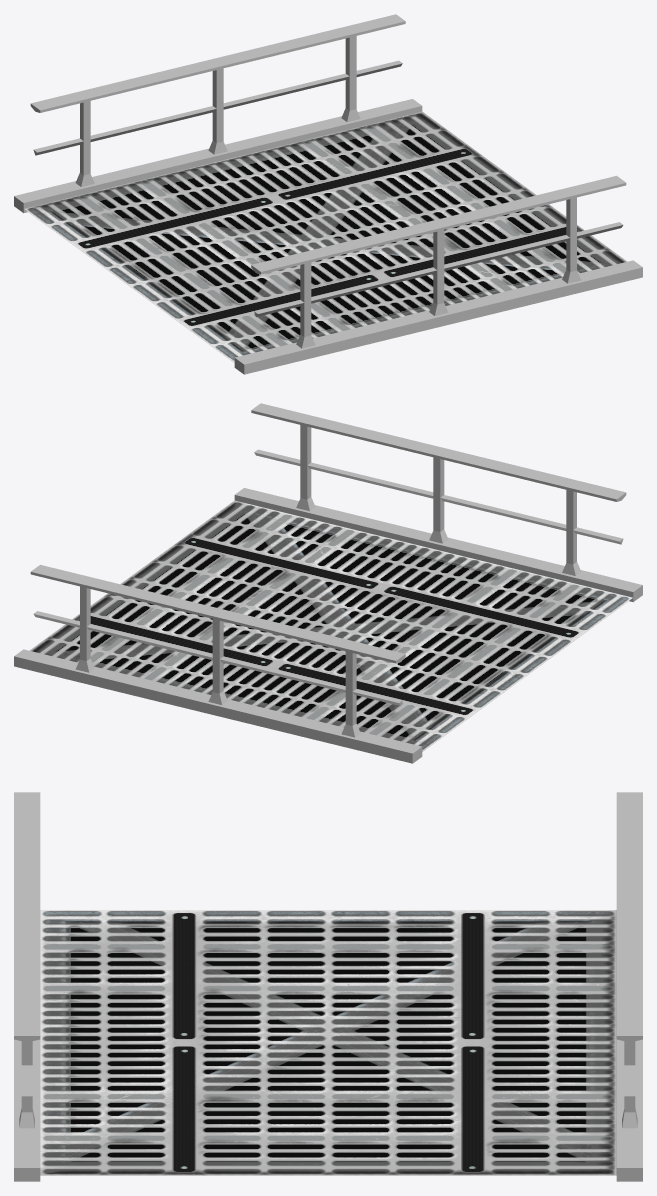
Rendered from PlateForm_Line_04.FBX.
3 views of the same model, one above another, from view 1: azimuth 30°, elevation 25°; view 2: azimuth 150°, elevation 25°; view 3: azimuth 270°, elevation 25° (orthographic). The views are drawn at different scales.
Visible parts, largest first — view 1: PlateForm_Line_04; view 2: PlateForm_Line_04; view 3: PlateForm_Line_04.
Boxes of the visible parts, box(x1,y1,x2,y2) form: PlateForm_Line_04: box(14, 14, 642, 374); PlateForm_Line_04: box(14, 403, 642, 763); PlateForm_Line_04: box(14, 792, 642, 1181).
Size of the model in its own units: 6 by 1.42 by 6.
